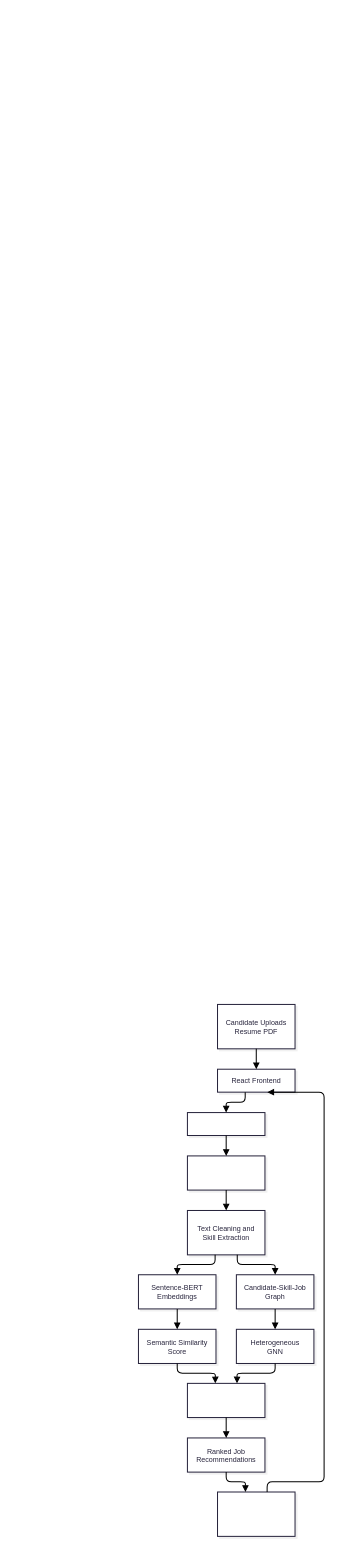
The diagram is 338 pixels wide and 1547 high, and some of its shapes have lost their labels. Here are the shapes that lost their labels. From the top down, the centre of each, then its label:
the point at 227,1125: FastAPI Backend
the point at 227,1173: PDF Text Extraction
the point at 227,1401: Hybrid Ranking Engine
the point at 257,1515: Compatibility Scores and Skill Gap Analysis
